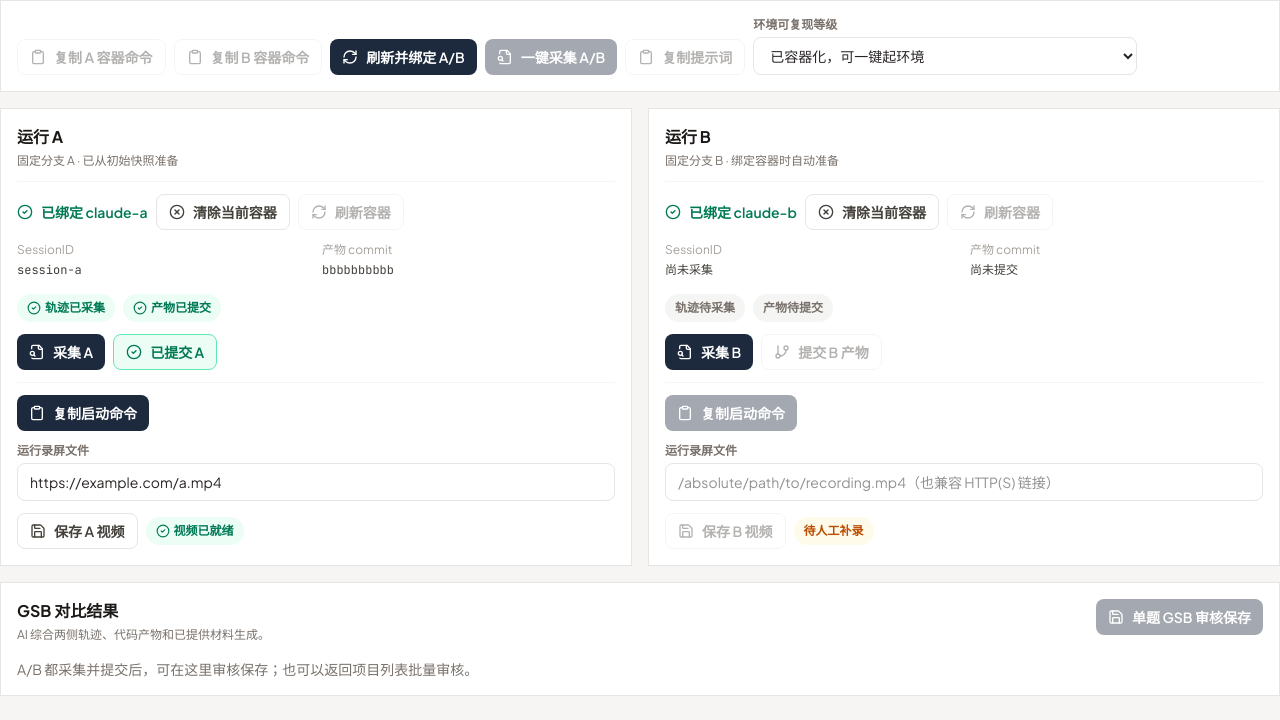
Scenario: copies a manual startup command without presenting automatic runtime controls
Step 1. Click the button with aria-label "复制启动命令 A" → (83, 413), box [17,395,149,431]
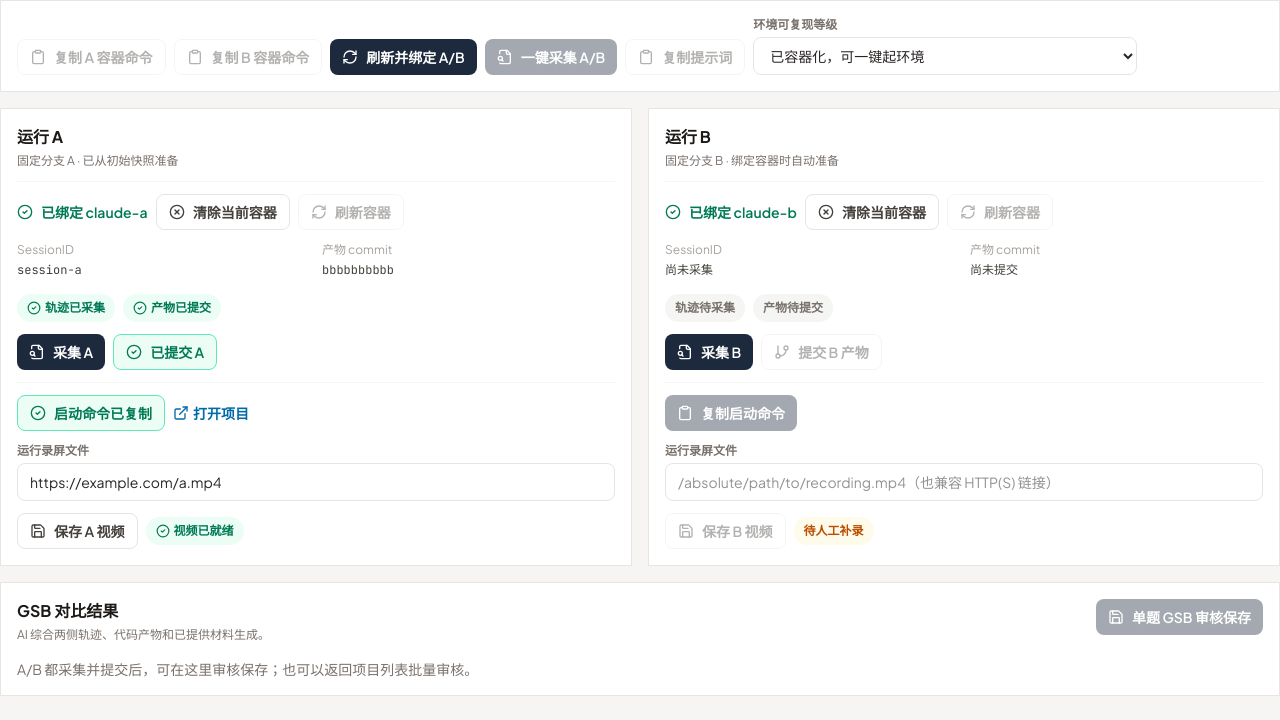
Expected: the button "启动命令已复制" is shown, [17,395,165,431]
